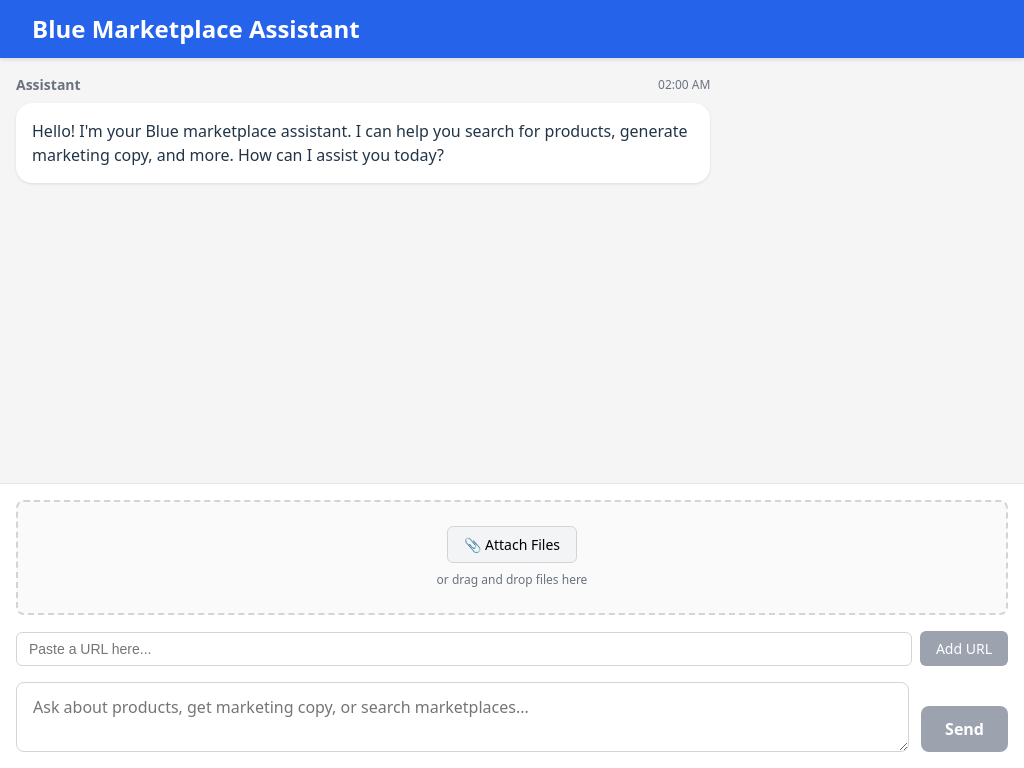
App › handles API errors gracefully
This screenshot has width=1024, height=768.
Type "test message" into the text box named "Message input" at (463, 717), box [16,682,909,752]
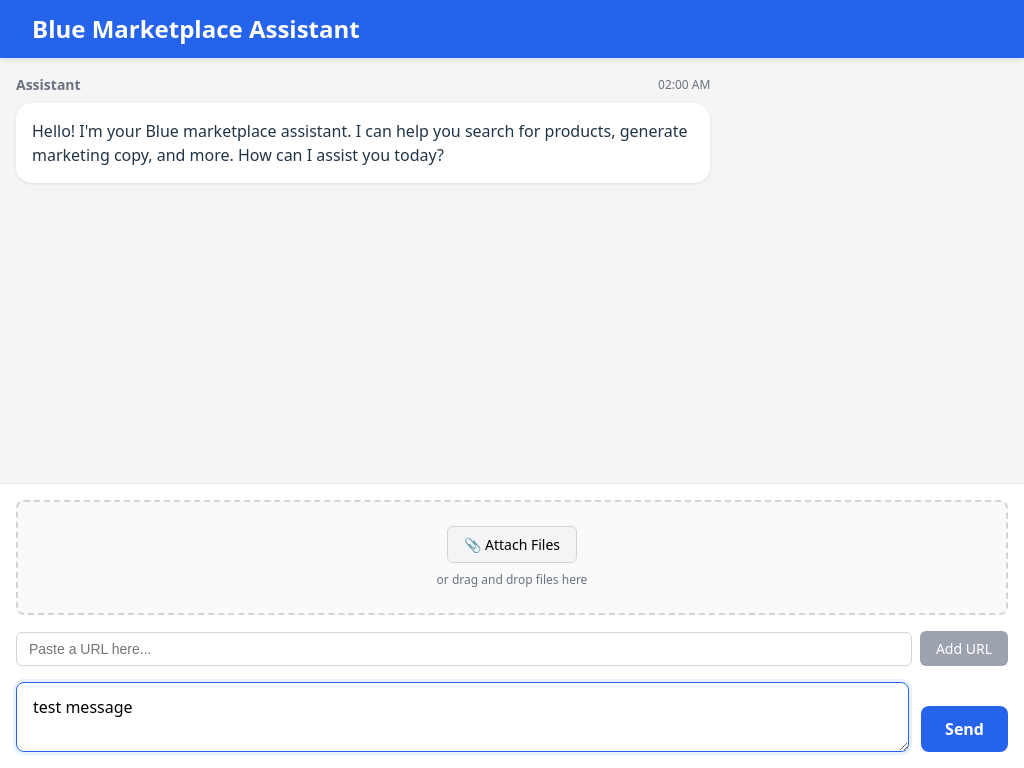
Click the button with aria-label "Send message" at (965, 729), box [921,706,1008,752]
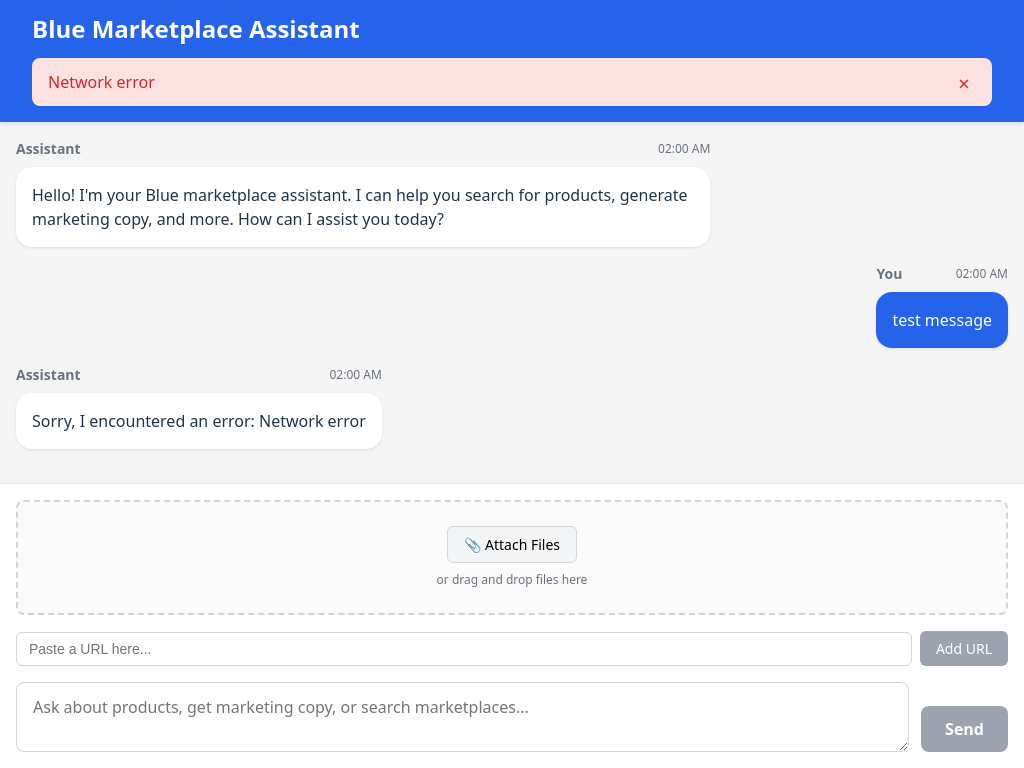
Expected: the text "Sorry, I encountered an error: Network error" is shown, [32,409,366,433]
Expected: the text "Network error" is shown, [48,71,155,93]
